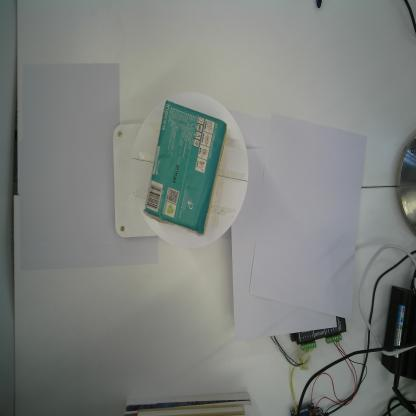Tissue: (141, 97, 228, 237)
